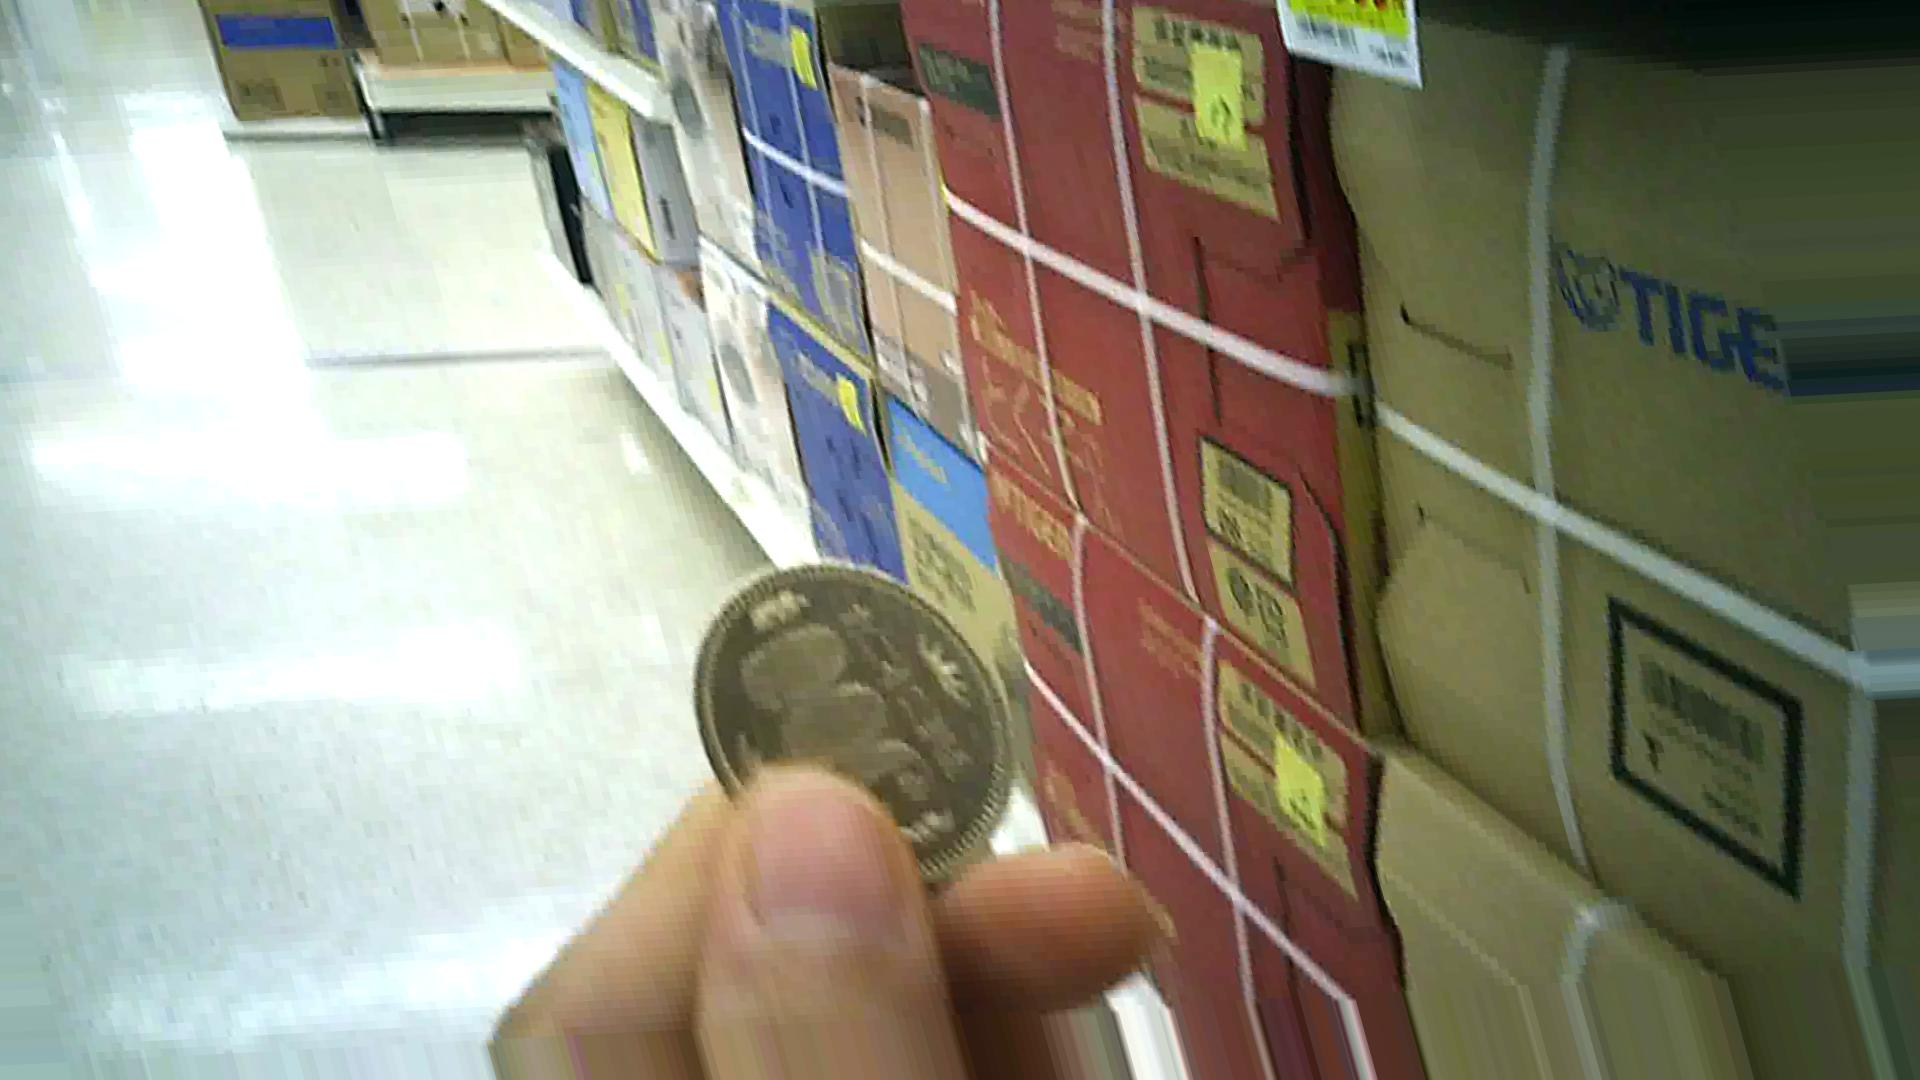500 Yen: (696, 545, 1040, 898)
